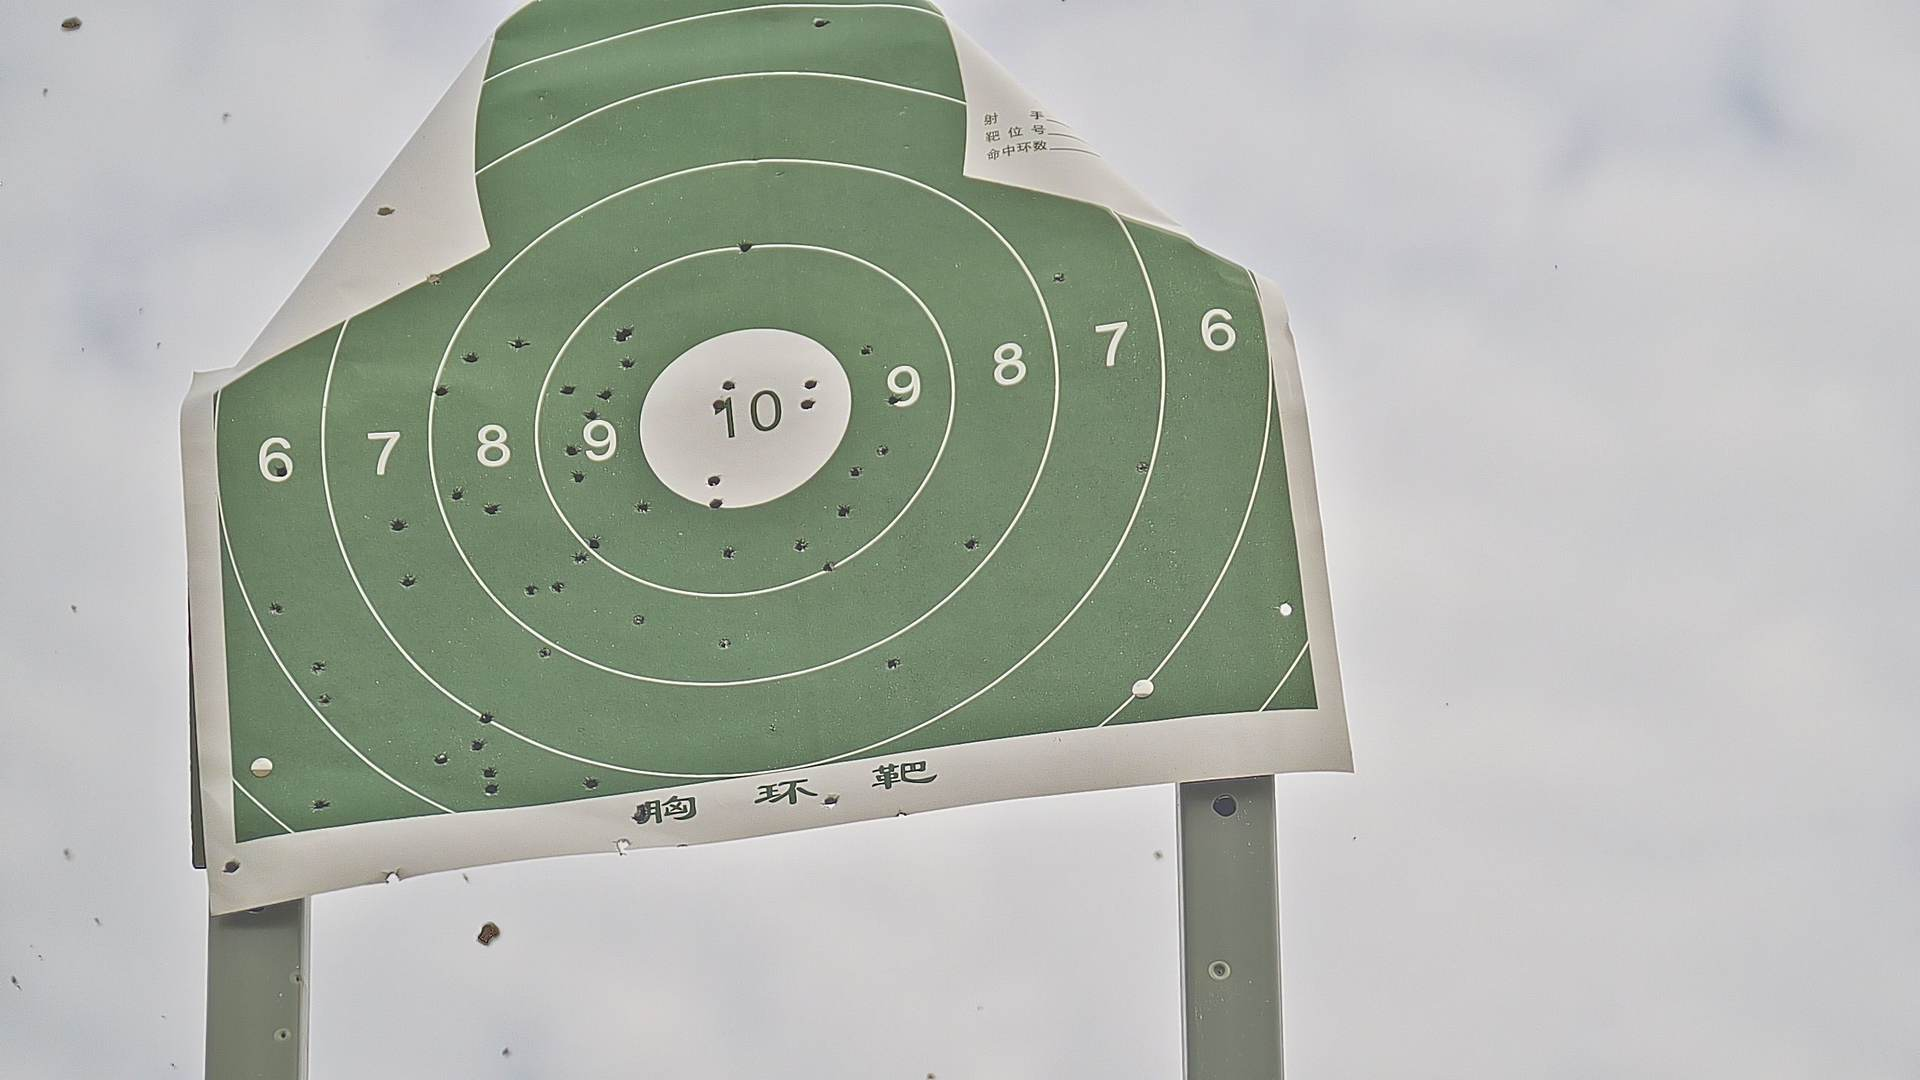hole: (633, 802, 649, 822), (309, 798, 331, 811), (1276, 601, 1294, 617), (469, 736, 487, 752), (390, 517, 407, 533), (717, 636, 733, 651), (549, 578, 564, 593), (582, 775, 597, 791), (266, 600, 284, 615), (823, 796, 841, 810), (704, 473, 723, 487), (524, 582, 538, 597), (483, 782, 498, 796), (401, 574, 415, 589), (812, 17, 829, 30), (720, 545, 735, 559), (574, 550, 588, 564), (712, 398, 728, 411), (636, 498, 649, 514), (1051, 270, 1065, 284), (965, 538, 978, 553), (886, 655, 901, 669), (874, 443, 889, 456), (837, 505, 851, 520), (822, 560, 836, 574), (804, 377, 819, 390), (723, 378, 737, 392), (599, 386, 613, 400), (584, 409, 597, 423), (566, 443, 579, 458), (588, 537, 601, 551), (574, 469, 585, 485), (1135, 460, 1149, 473), (622, 324, 636, 338), (435, 385, 448, 398), (708, 497, 723, 509), (480, 711, 495, 723), (484, 502, 498, 514), (483, 765, 498, 775), (560, 385, 578, 394), (738, 237, 750, 251), (795, 539, 807, 553), (615, 328, 626, 342), (451, 488, 463, 501), (465, 351, 477, 364), (541, 644, 551, 658), (435, 752, 447, 764), (313, 661, 324, 673), (851, 465, 861, 479), (800, 397, 814, 407), (633, 615, 644, 628), (316, 694, 330, 704), (861, 344, 872, 356), (886, 393, 898, 404), (513, 336, 524, 348), (622, 357, 633, 368), (277, 465, 287, 475)
kernel: (738, 411, 746, 415)
target: (208, 1, 1321, 845)
ten: (640, 331, 851, 506)
